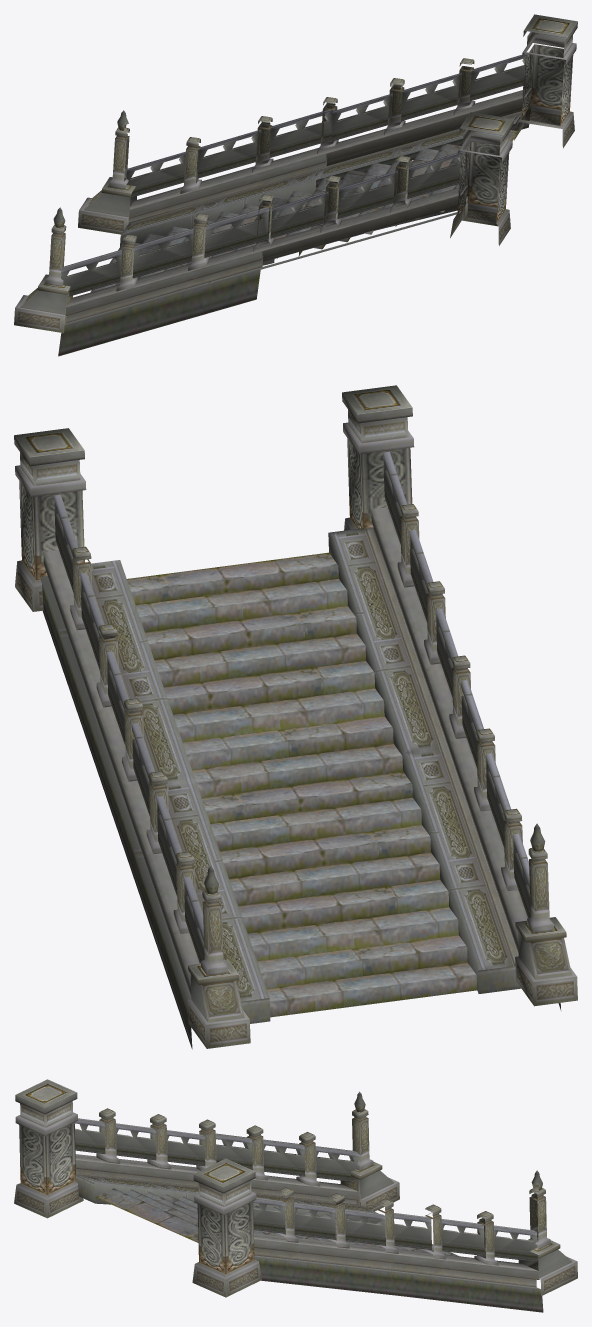
File: S2_Build_XSC084_H1.FBX
The picture shows the model from 3 angles, top to bottom: view 1: azimuth 30°, elevation 25°; view 2: azimuth 150°, elevation 25°; view 3: azimuth 270°, elevation 25°; orthographic projection. The views are drawn at different scales.
Visible parts, largest first — view 1: S2_Build_XSC084_H1; view 2: S2_Build_XSC084_H1; view 3: S2_Build_XSC084_H1.
Part boxes in pixels (x1,y1,x2,y2): S2_Build_XSC084_H1: (14, 14, 577, 356); S2_Build_XSC084_H1: (14, 385, 577, 1049); S2_Build_XSC084_H1: (14, 1079, 577, 1312).
Size of the model in its own units: 3020 by 1613 by 2982.
